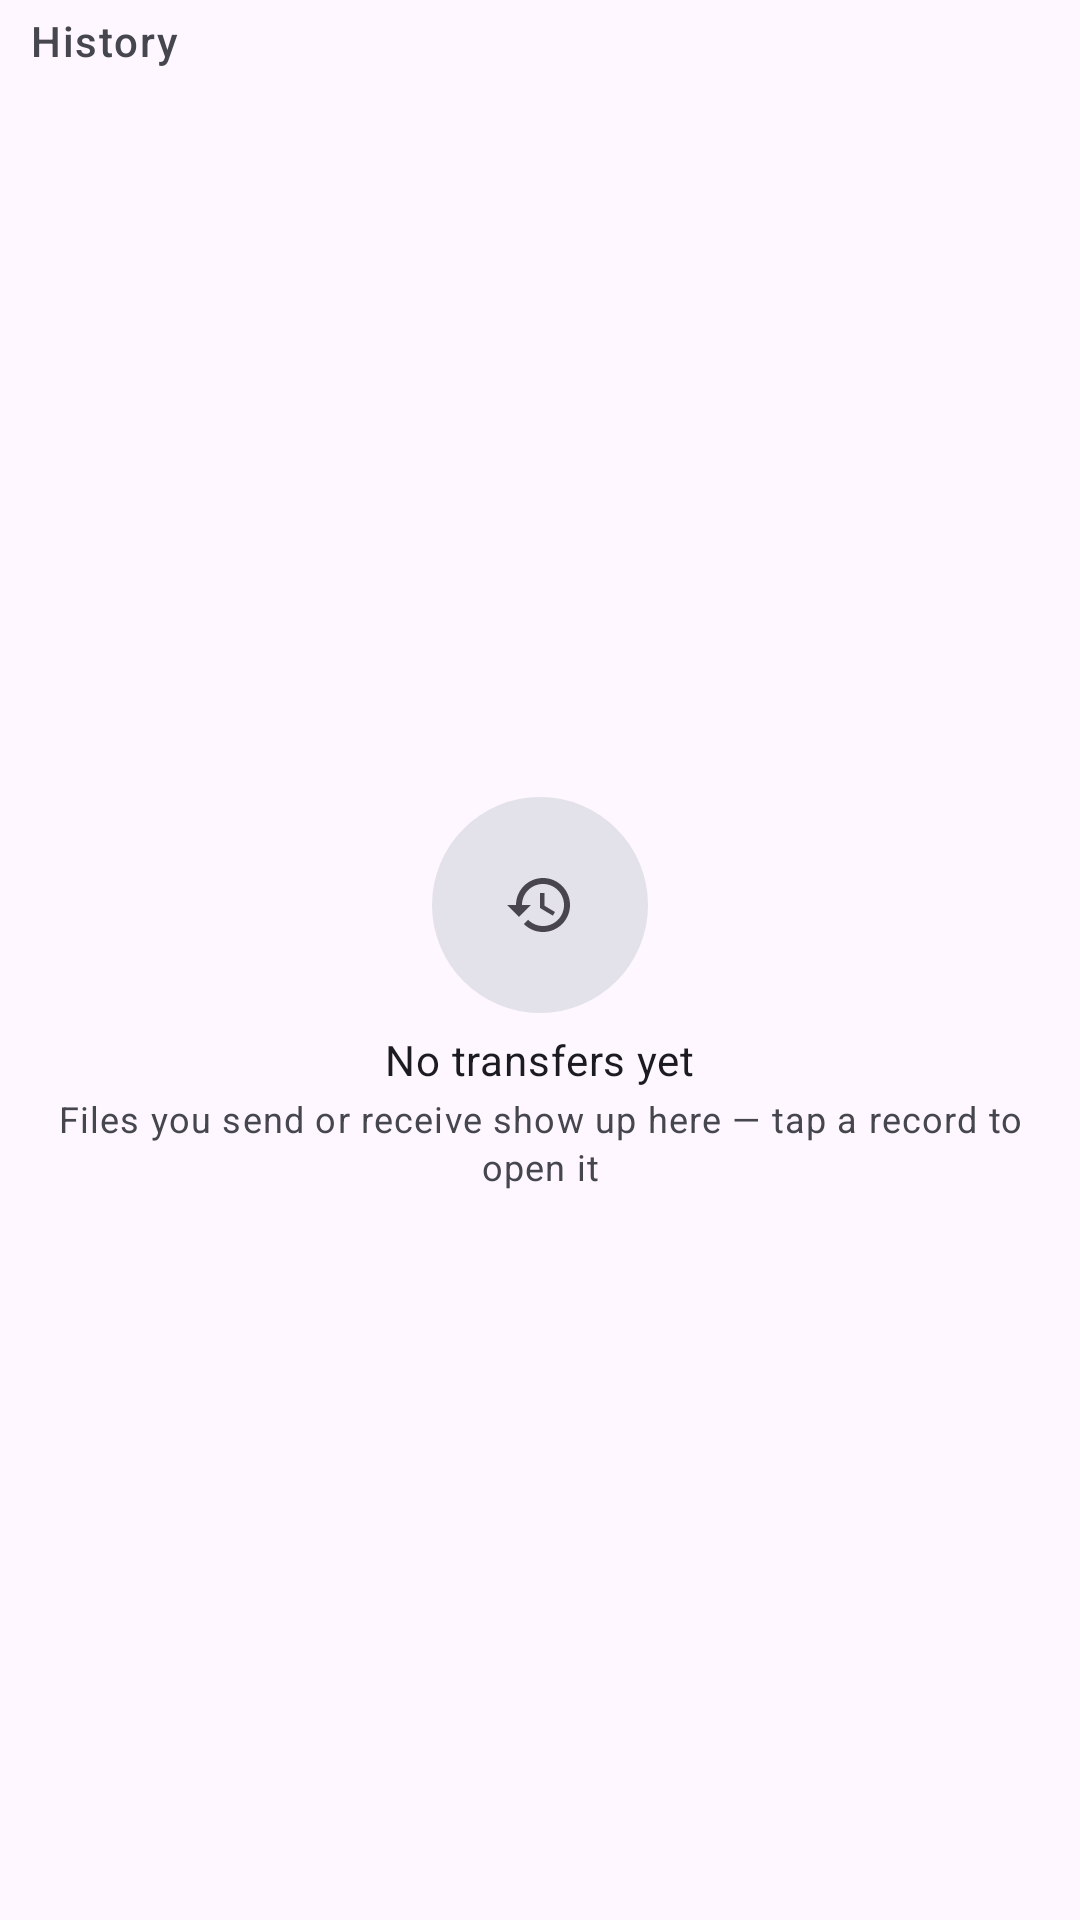

Where to tap for icons on this 1080px×1920px app screen, as (x=x, y=y):
history: (x=538, y=905)
